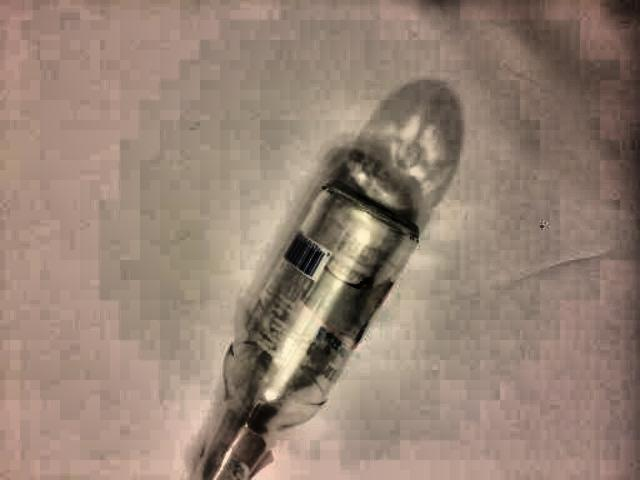Bottles: (165, 170, 430, 480)
